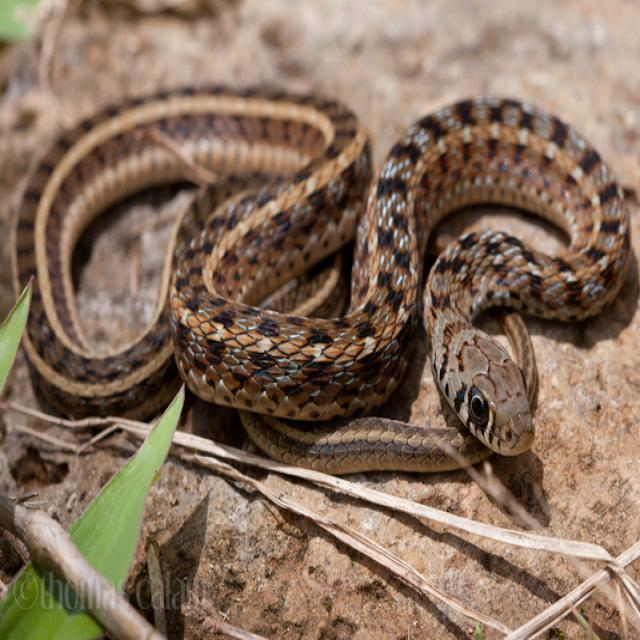Snake: (12, 74, 632, 481)
